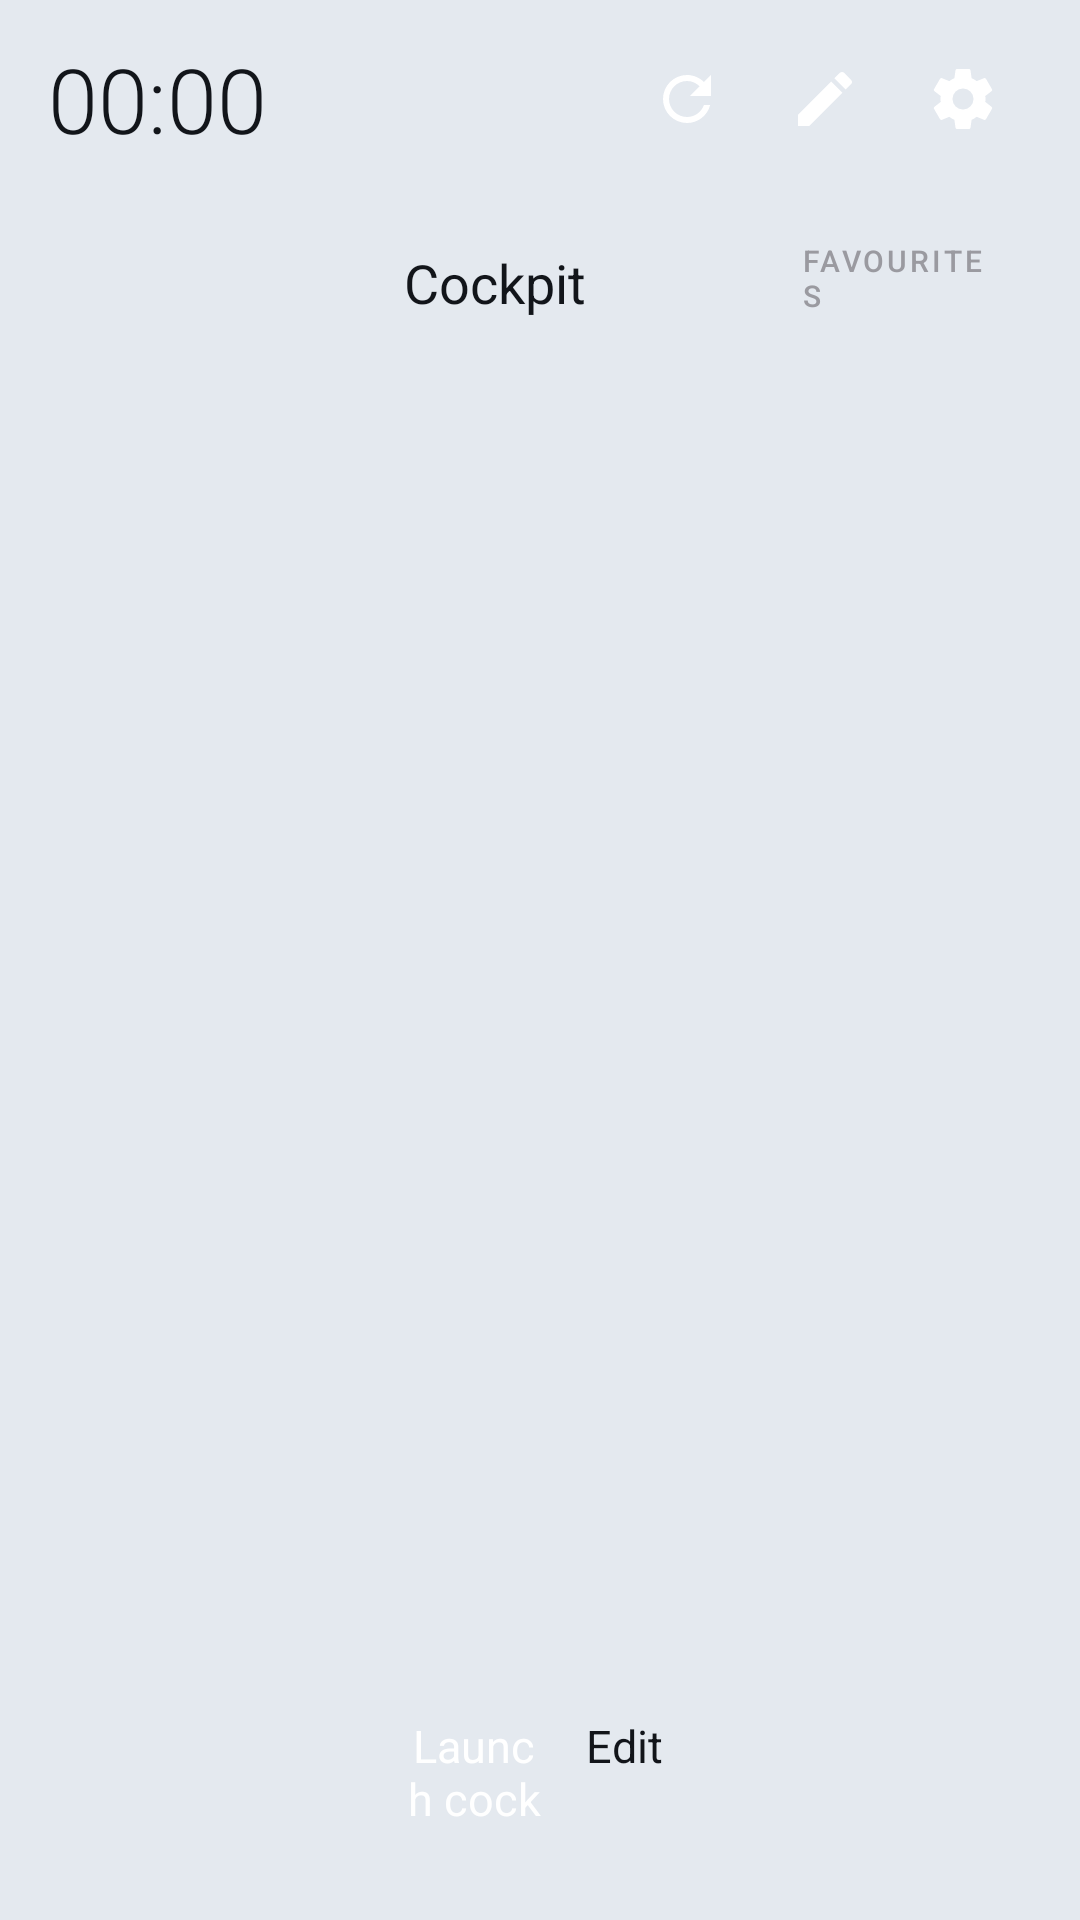

Icons on this 1080x1920 Android screen, each with the point to tap as point (x, y):
Edit layout: point (825, 99)
Reload: point (687, 99)
Settings: point (963, 99)
